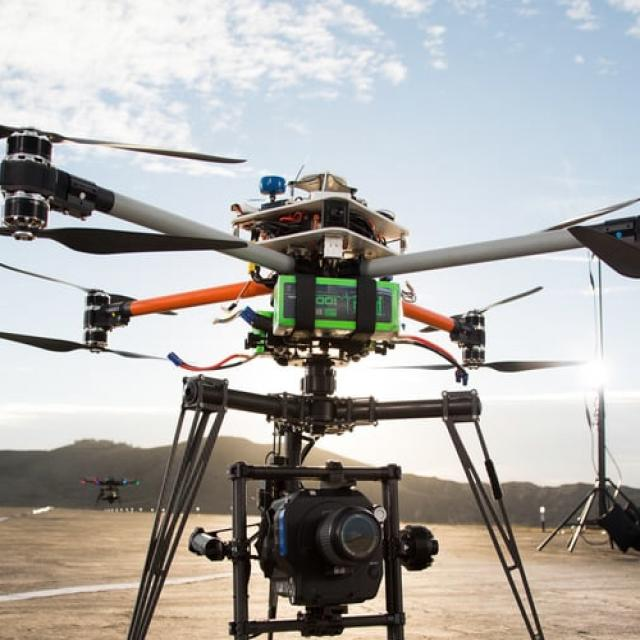drone: (0, 64, 640, 629)
